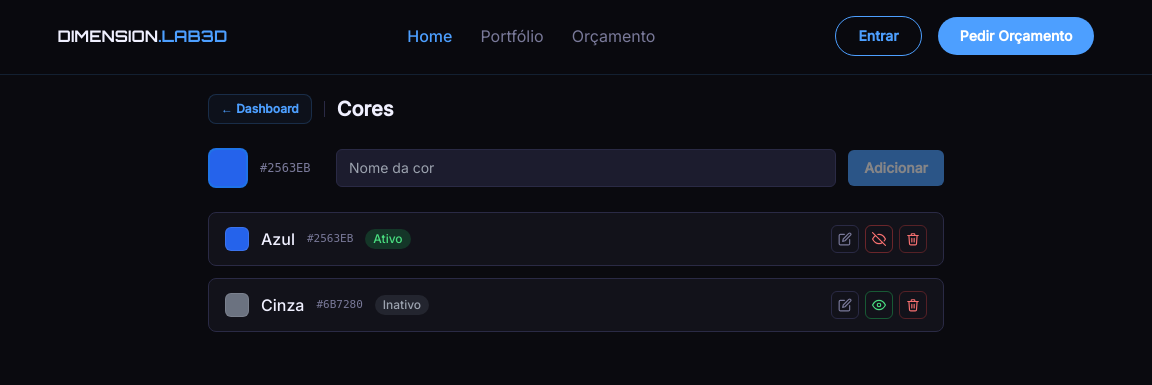
Test: ColorsAdmin › shows error when delete fails due to linked quotes
Expected: the text "Azul" is shown, [261,227,295,251]
Click the button named "excluir" in the row of "Azul": (913, 239) [899,225,927,253]
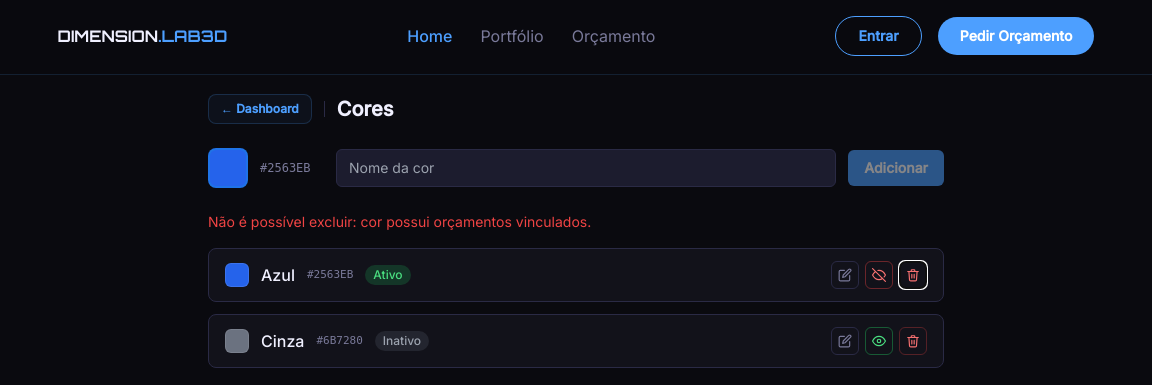
Result: the text "Não é possível excluir: cor possui orçamentos vinculados." is shown at [208,213,591,230]
